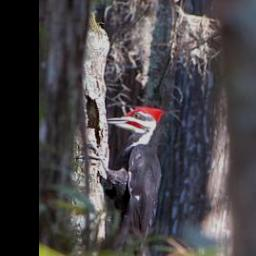Woodpecker: (75, 106, 167, 256)
